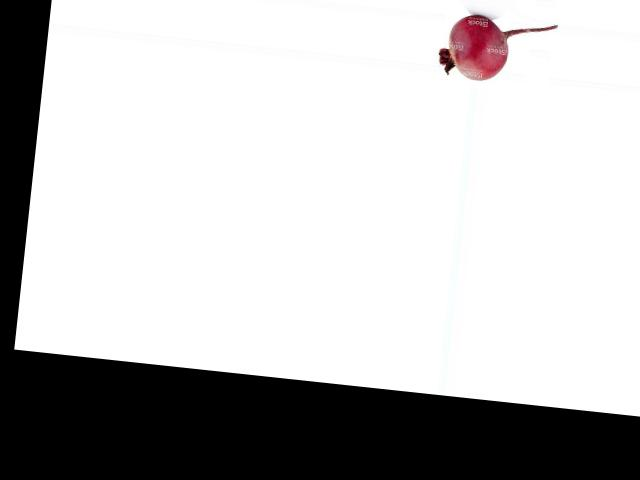beet: (436, 11, 557, 87)
